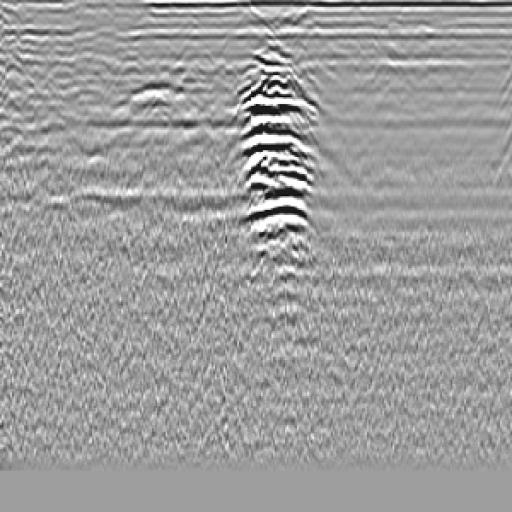metalic: (233, 39, 326, 277)
nonmetalic: (108, 59, 224, 143)
